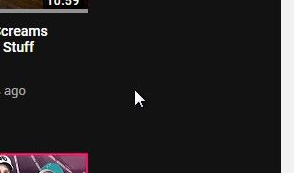cursor: (133, 89, 145, 108)
